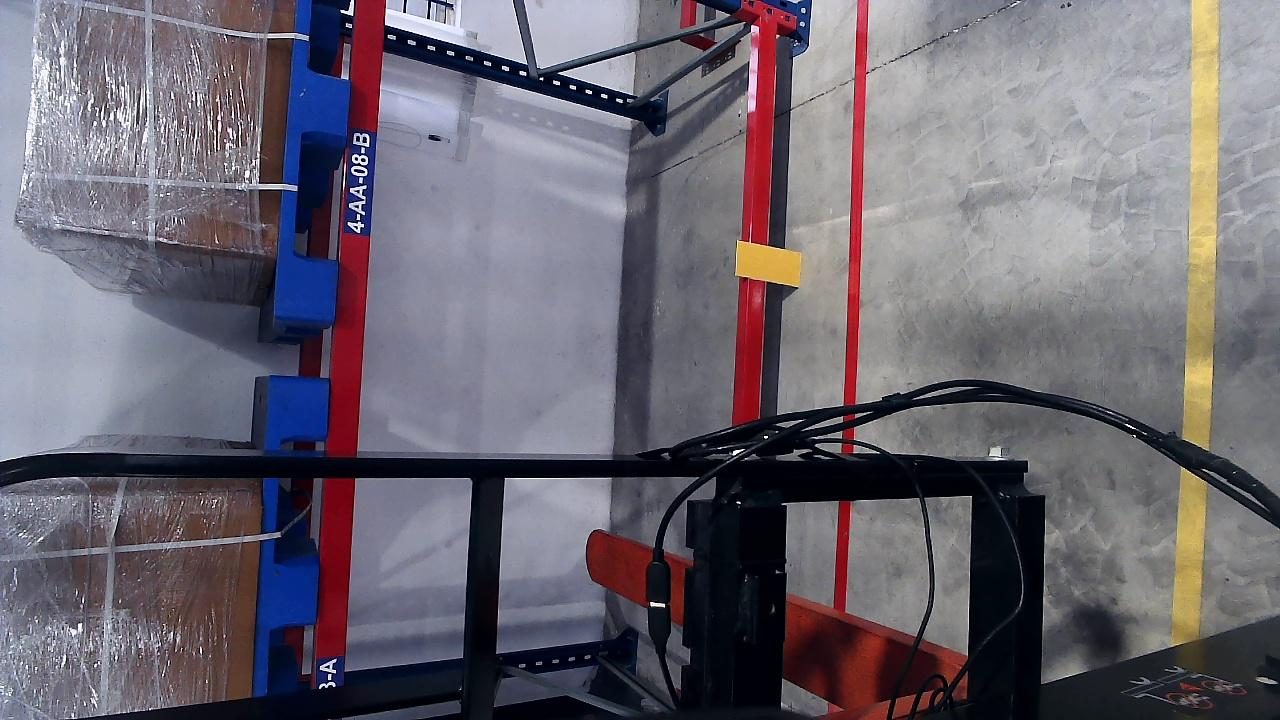h_rack: (324, 0, 390, 456), (735, 11, 780, 424), (313, 479, 359, 688)
orange_strip: (735, 241, 801, 287)
red_line: (842, 3, 868, 405)
small_pallet: (270, 0, 365, 321), (249, 371, 327, 695)
yellow_line: (1181, 0, 1220, 640)
